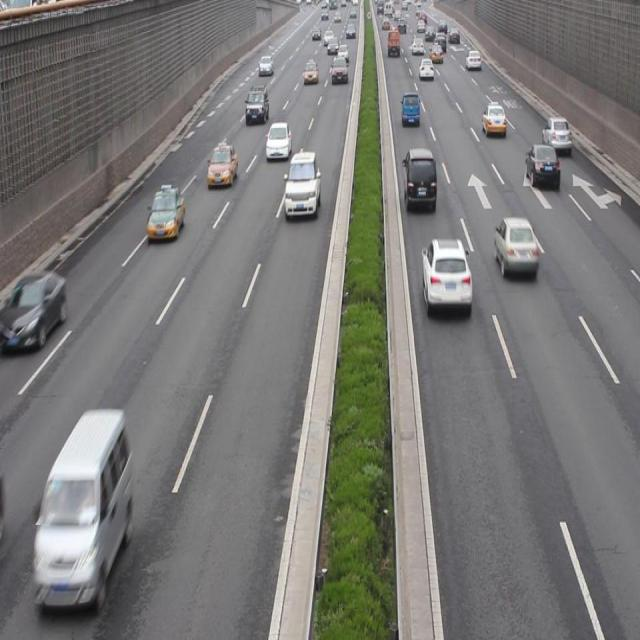car: (1, 273, 67, 348), (420, 238, 471, 314), (492, 218, 536, 280), (284, 149, 321, 220), (144, 186, 186, 243), (524, 143, 558, 189), (206, 143, 237, 189), (542, 117, 570, 154), (265, 122, 290, 158), (246, 86, 269, 124), (481, 104, 504, 136), (401, 91, 418, 126)
truck: (35, 407, 134, 606), (402, 147, 437, 213)
